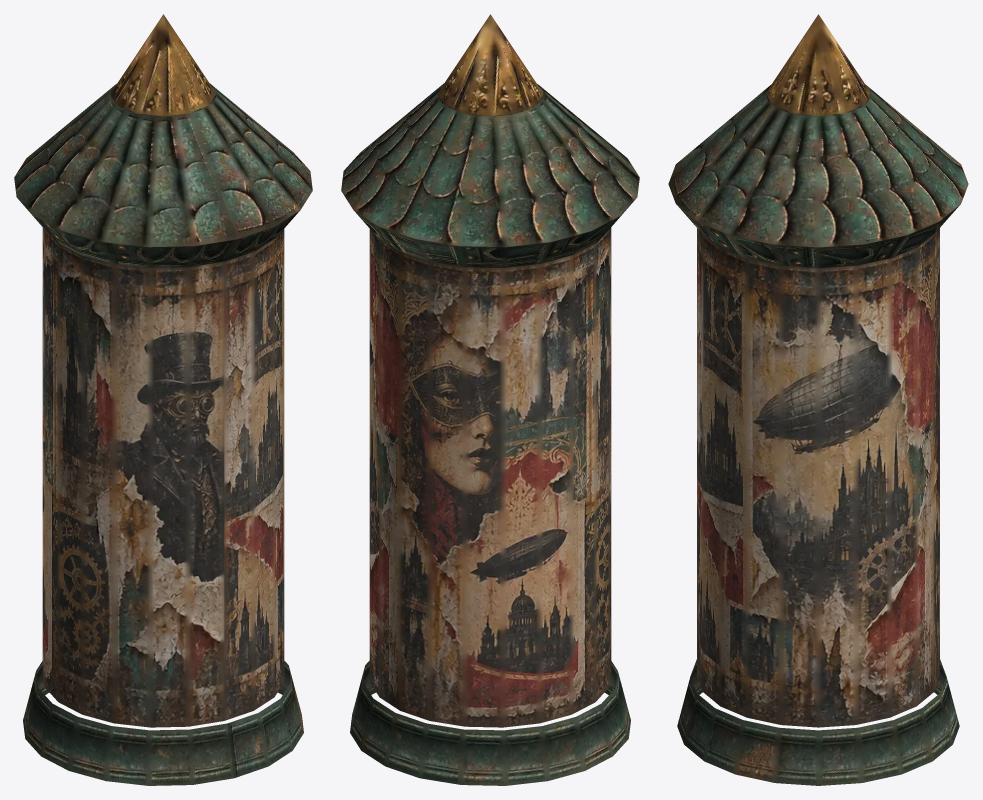
The model's file is morris_column.glb.
3 renders of one model, left to right at view 1: azimuth 30°, elevation 25°; view 2: azimuth 150°, elevation 25°; view 3: azimuth 270°, elevation 25°, orthographic.
Parts seen in each view (by area): view 1: GEO-morris_column; view 2: GEO-morris_column; view 3: GEO-morris_column.
Boxes of the visible parts, <box> form: GEO-morris_column: <box>14,14,312,785</box>; GEO-morris_column: <box>341,14,639,785</box>; GEO-morris_column: <box>668,14,968,785</box>.
Bounding box in the file's own units: 1.36 × 3.56 × 1.36.
1 material, 1 textured.
